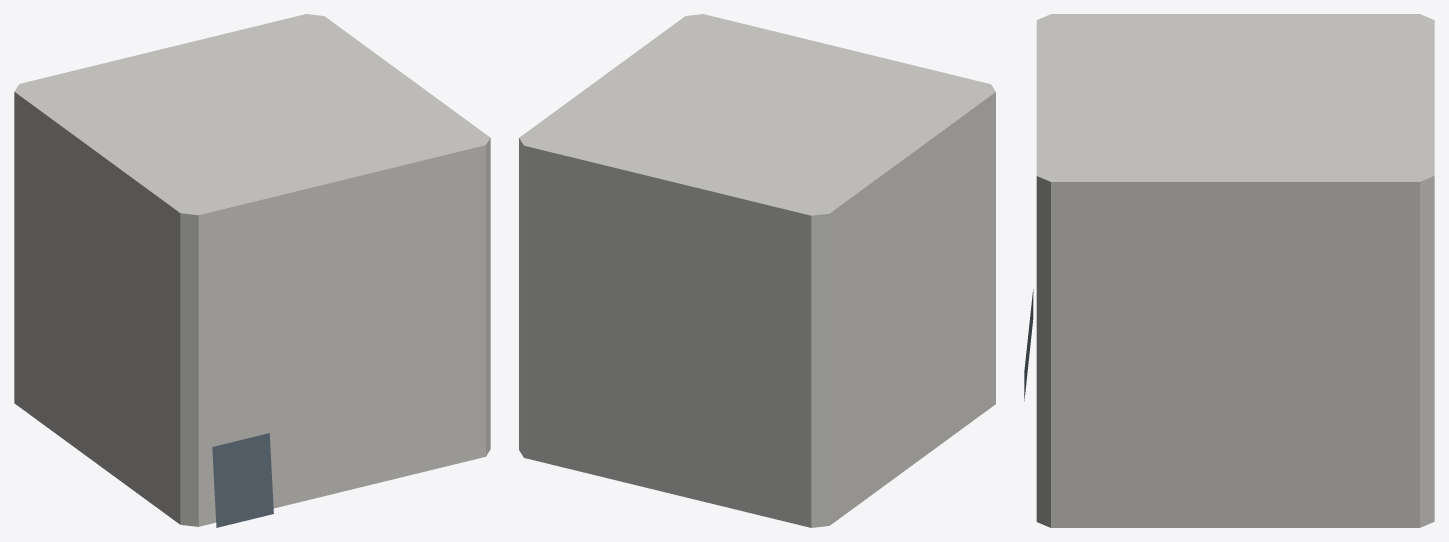
The model's file is loin-etape-1.glb.
3 views of the same model, side by side, from view 1: azimuth 30°, elevation 25°; view 2: azimuth 150°, elevation 25°; view 3: azimuth 270°, elevation 25° (orthographic). The views are drawn at different scales.
Parts seen in each view (by area): view 1: loin; view 2: loin; view 3: loin.
Part boxes in pixels (bbox=[...]): loin: bbox=[14, 14, 490, 527]; loin: bbox=[519, 14, 995, 527]; loin: bbox=[1024, 14, 1434, 527].
Bounding box in the file's own units: 0.7696 × 0.7392 × 0.795.
